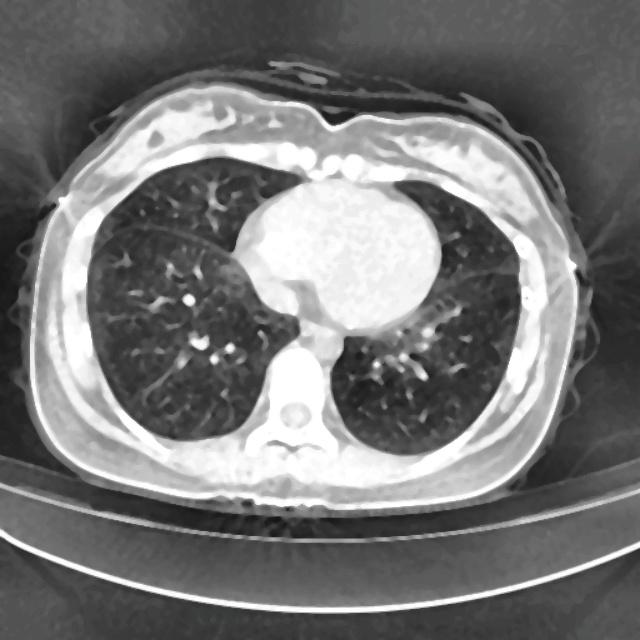covid: (9, 60, 597, 518)
